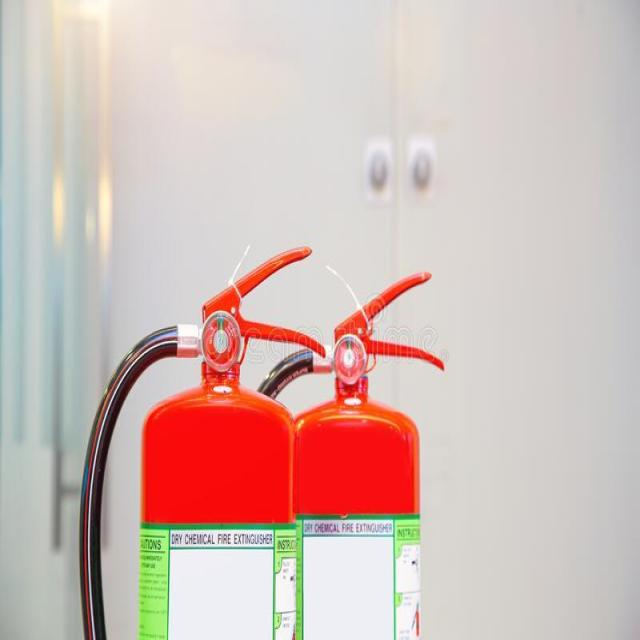fire_extinguisher: (75, 240, 329, 639), (233, 269, 445, 639)
